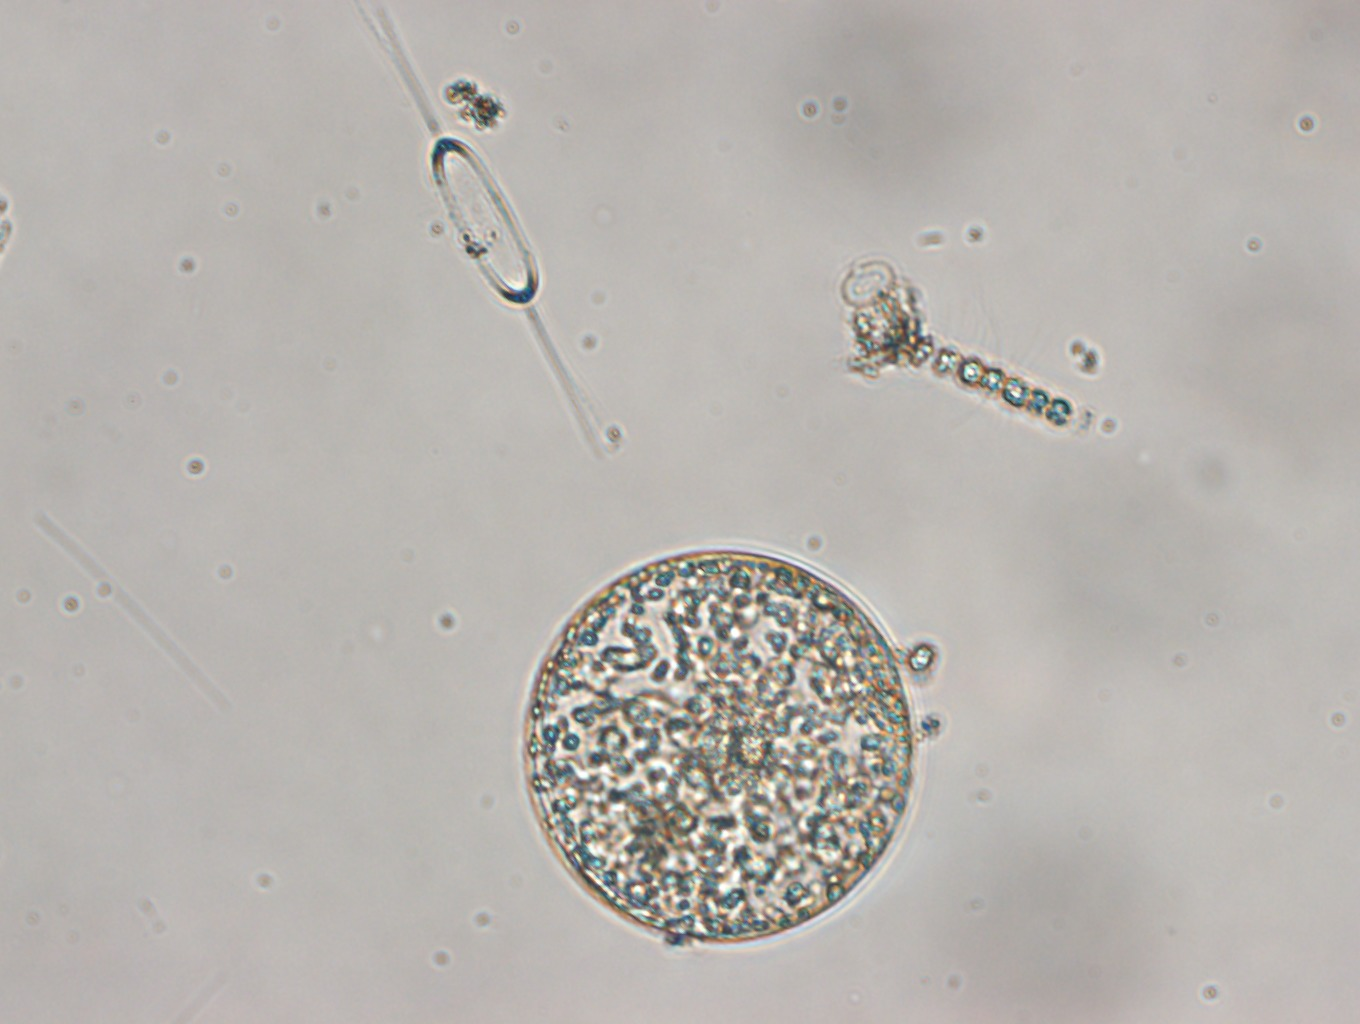chaetoceros: (355, 1, 622, 466)
coscinodiscus: (522, 546, 916, 944)
